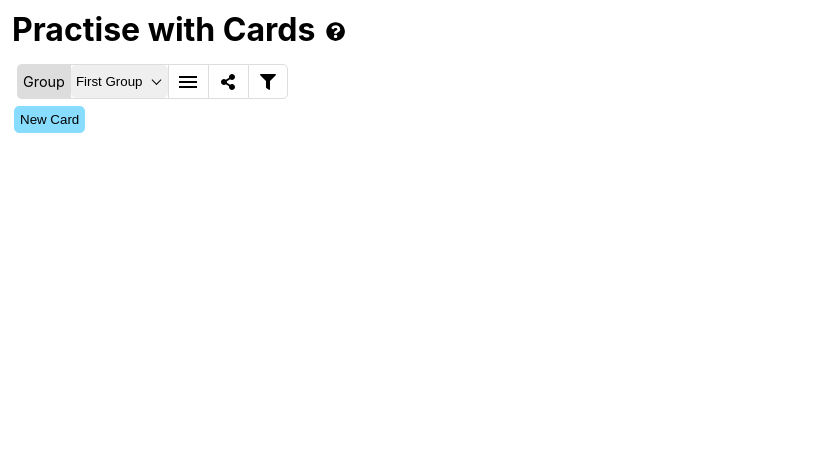
it: Creates a new card when clicking the New Card button
Click the button "New Card": coordinates (50, 120) [14,106,85,133]
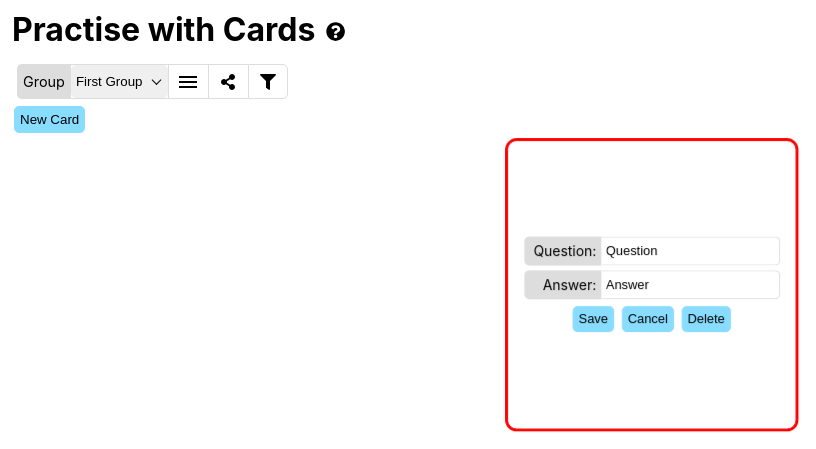
Expected: the field named "question" is shown, [601,236,780,266]
Expected: the field named "answer" is shown, [601,270,780,299]
